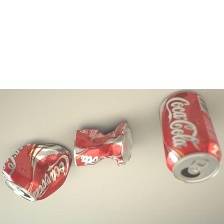can: (155, 85, 224, 185), (0, 133, 74, 208), (70, 118, 143, 169)
